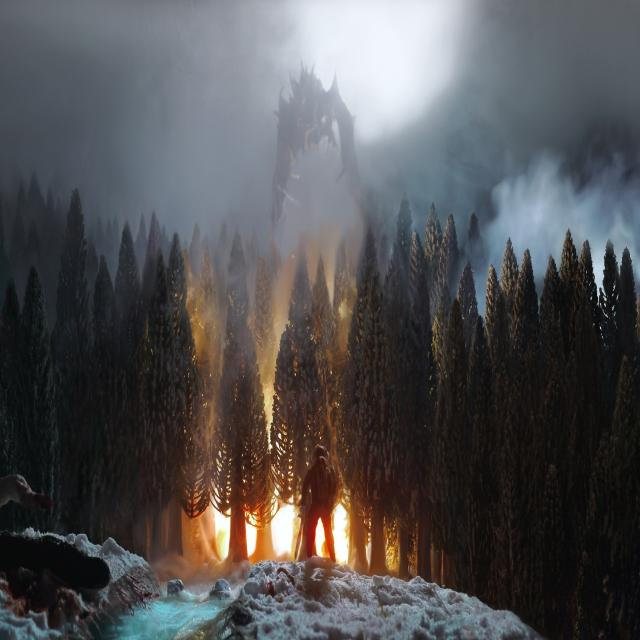Fire: (190, 271, 364, 557)
Smoke: (450, 162, 640, 304)
